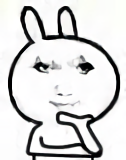dragon: (30, 53, 99, 110)
